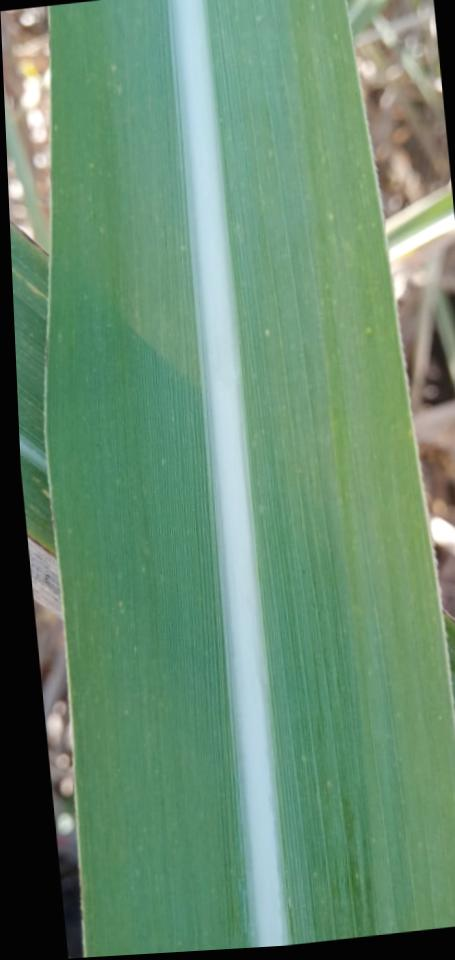Healthy: (45, 0, 455, 957)
